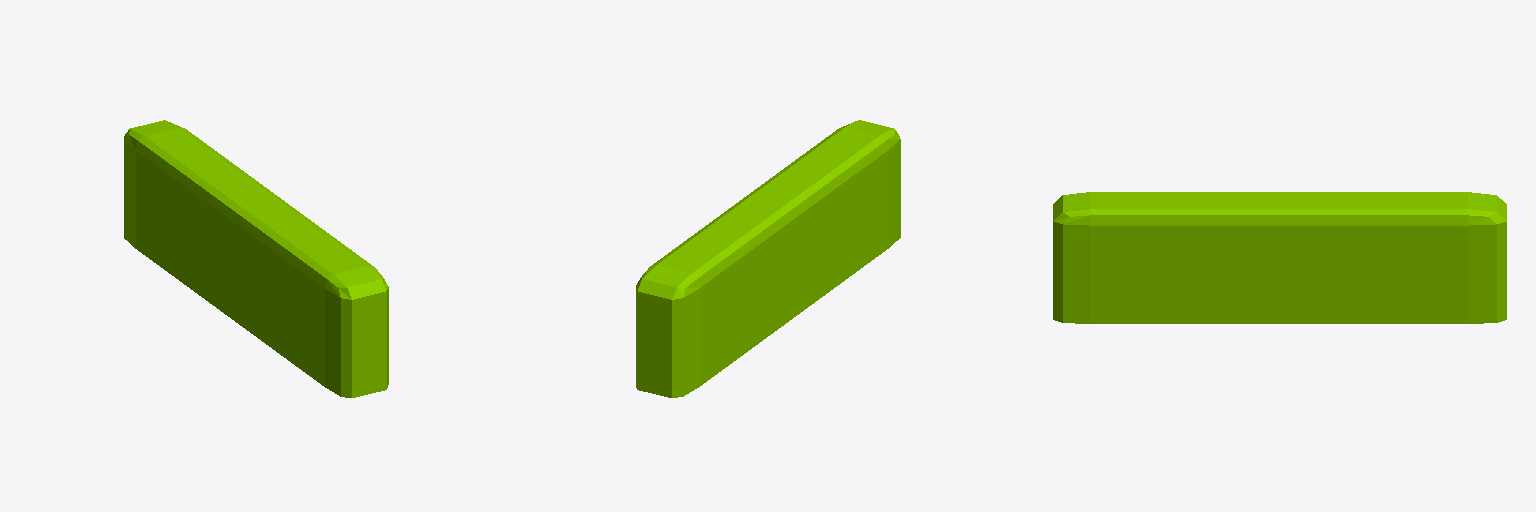
The model's file is long-hedge.obj.
3 renders of one model, left to right at view 1: azimuth 30°, elevation 25°; view 2: azimuth 150°, elevation 25°; view 3: azimuth 270°, elevation 25°, orthographic.
Visible parts, largest first — view 1: cube2; view 2: cube2; view 3: cube2.
Part boxes in pixels (x1,y1,x2,y2): cube2: (124,120,388,397); cube2: (636,120,900,397); cube2: (1053,192,1506,323).
Bounding box in the file's own units: 4 × 8.08 × 30.